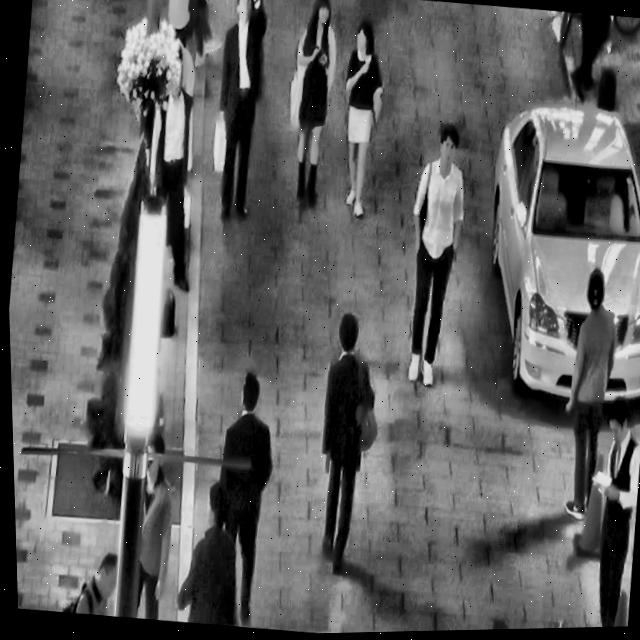light_vehicle: (461, 79, 640, 422)
